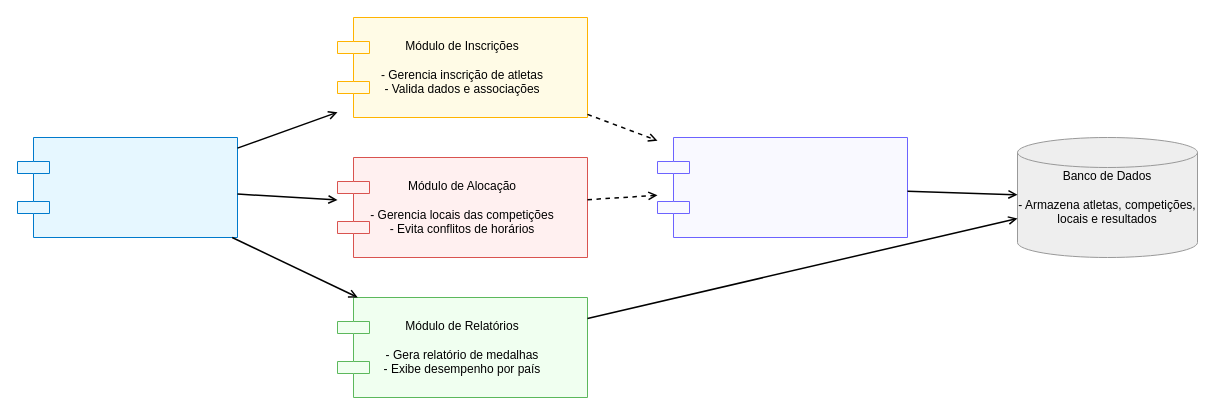
Image size: 1215x415. Some labels were removed from this diagram. The shapes that lost their labels are listed below. From the top down, each one's centre as x and y in pixels, then its label:
At [127,187]: "Interface de Usuário - Exibe telas de login e menus - Envia comandos ao sistema".
At [782,187]: "Módulo de Competição - Registra dados das competições - Gerencia resultados".
